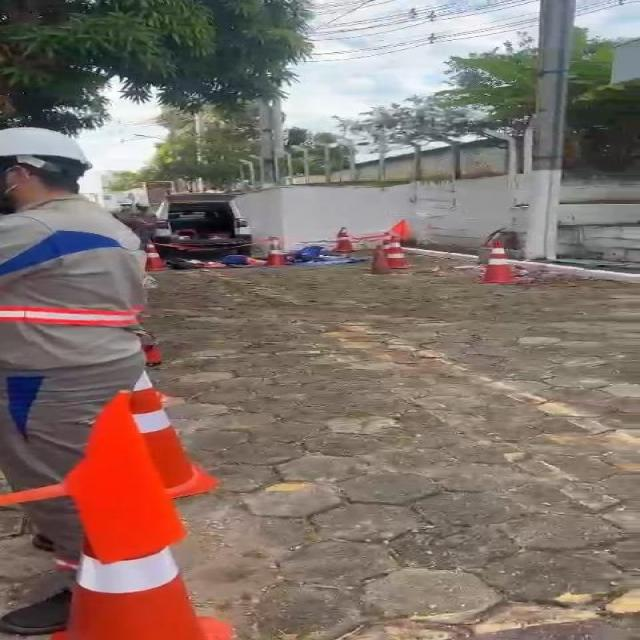Cone: (81, 382, 241, 640), (476, 231, 520, 278), (327, 223, 369, 256), (382, 230, 416, 270), (266, 232, 296, 267), (151, 243, 179, 273)
Helmet: (0, 115, 100, 208)
